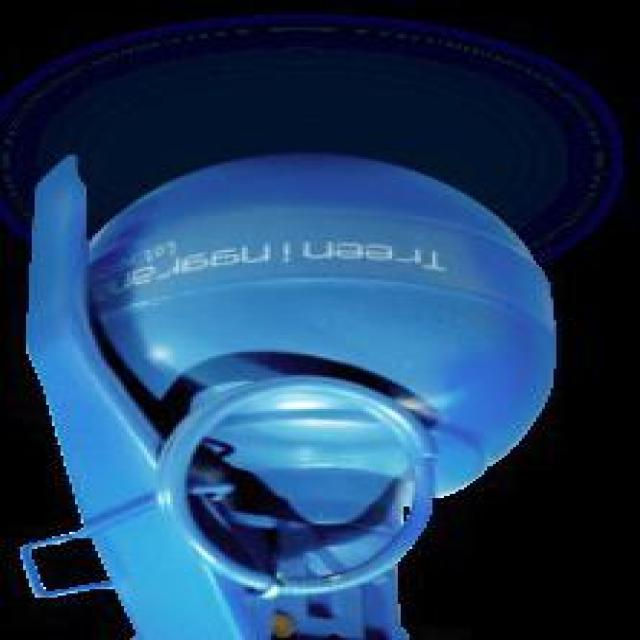grenade: (18, 154, 560, 640)
